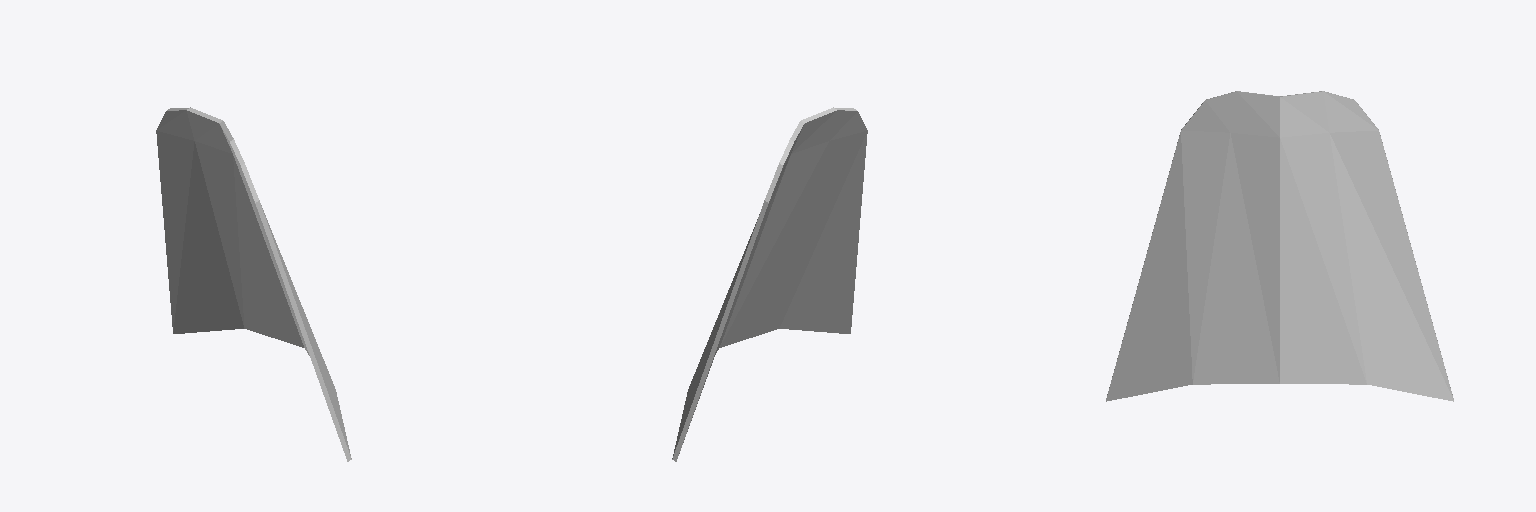
The model's file is motor_windshield.obj.
3 views of the same model, side by side, from view 1: azimuth 30°, elevation 25°; view 2: azimuth 150°, elevation 25°; view 3: azimuth 270°, elevation 25° (orthographic).
Visible parts, largest first — view 1: windshield_Plane.002; view 2: windshield_Plane.002; view 3: windshield_Plane.002.
Part boxes in pixels (x1,y1,x2,y2): windshield_Plane.002: (156, 107, 351, 461); windshield_Plane.002: (672, 107, 867, 461); windshield_Plane.002: (1106, 91, 1453, 401).
Bounding box in the file's own units: 0.4307 × 1.12 × 1.23.